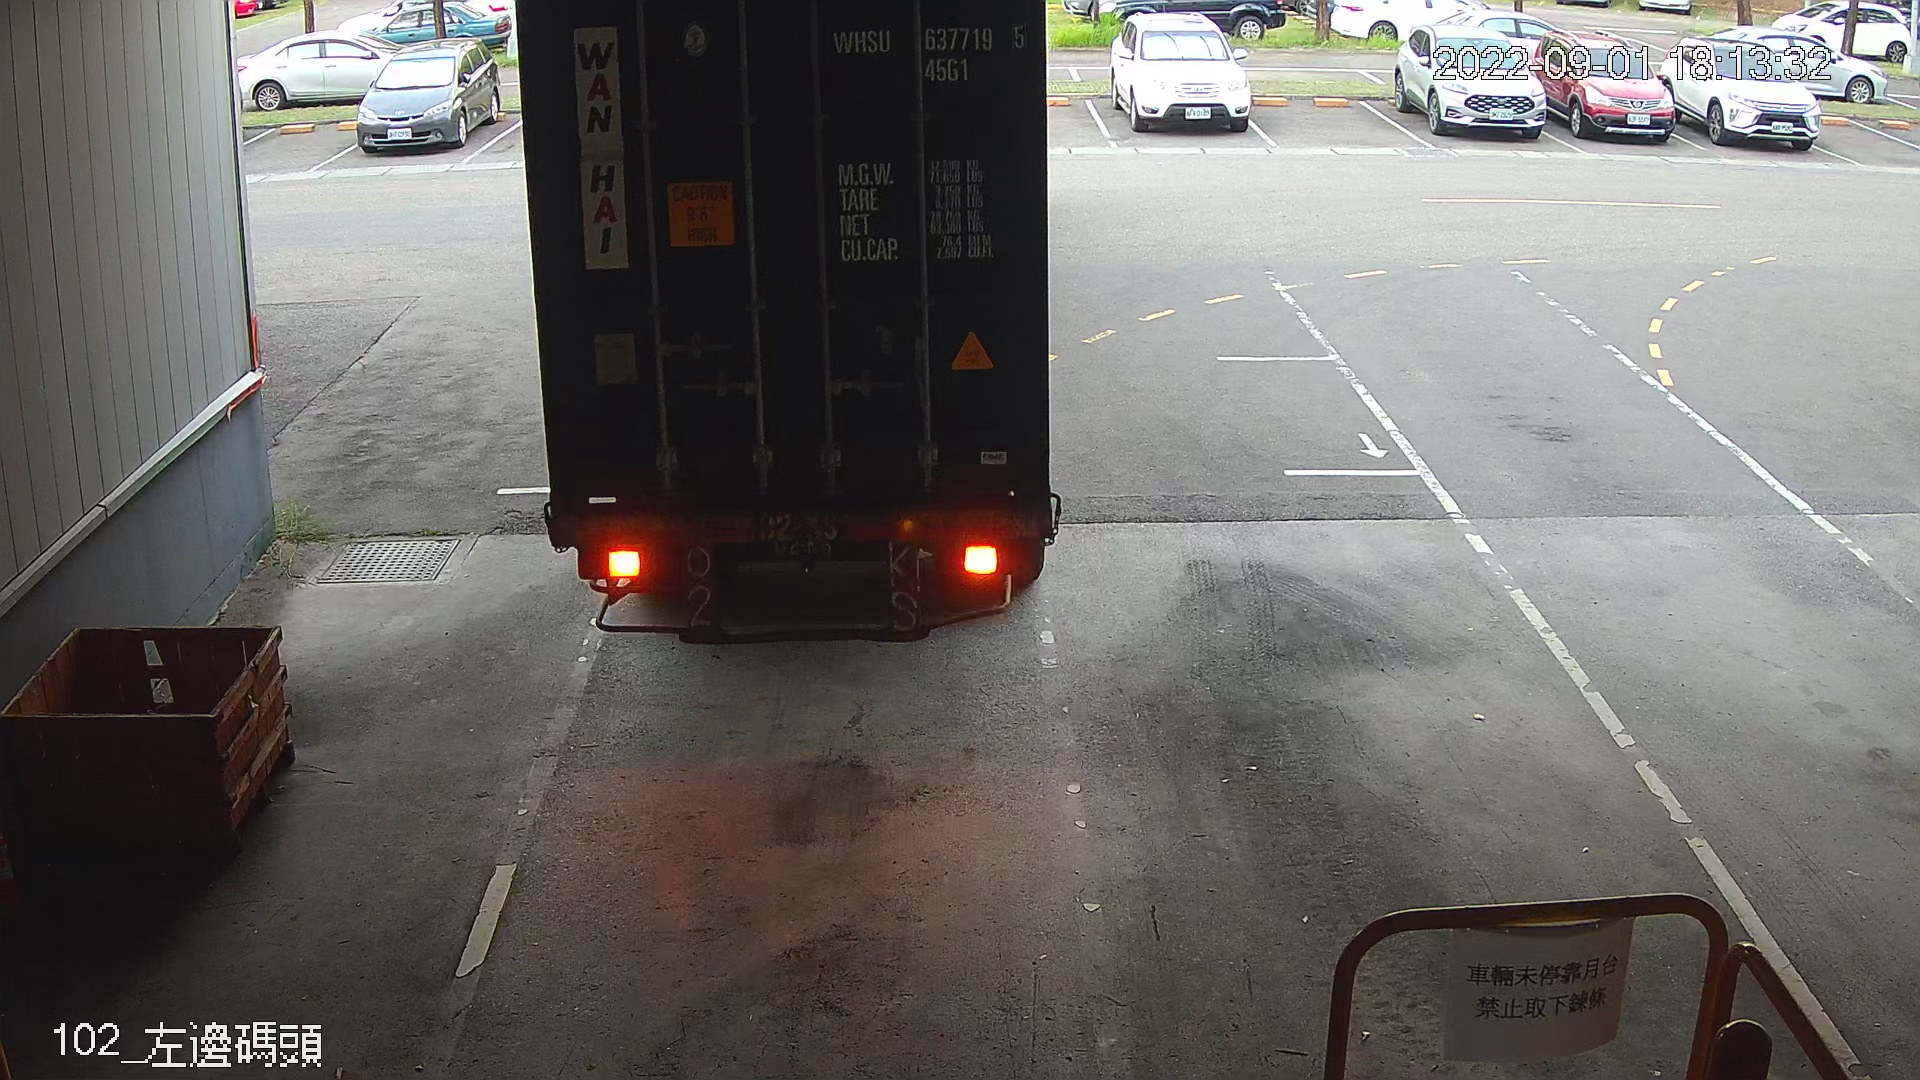container: (828, 11, 1035, 92)
